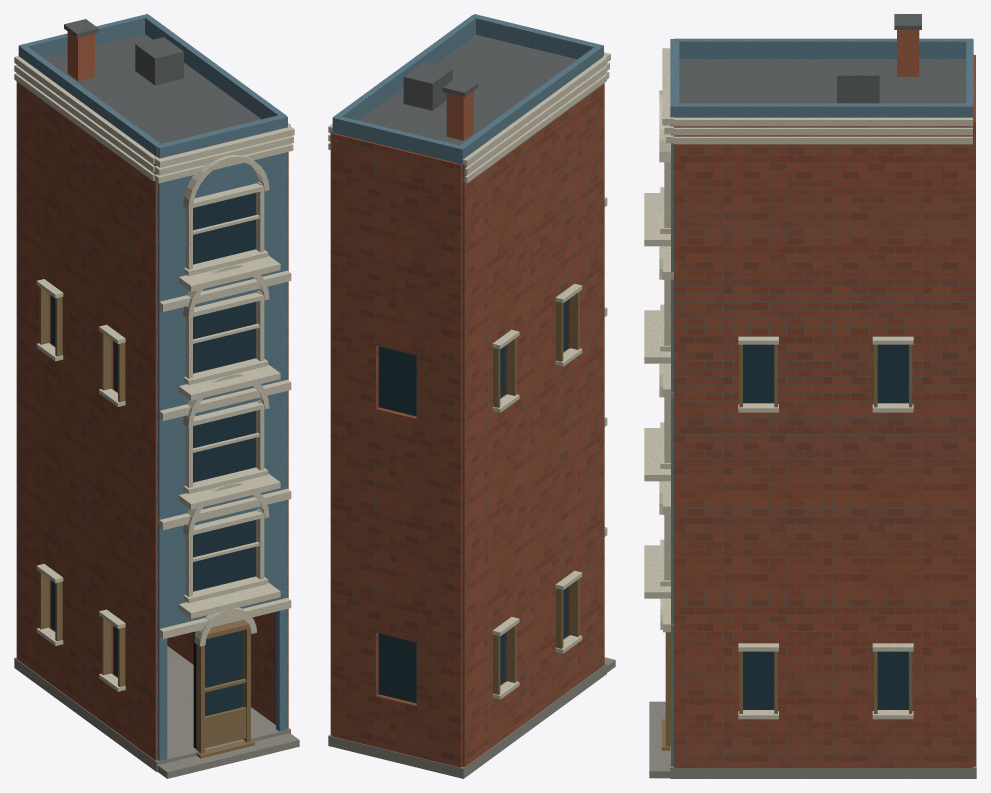
The model's file is OFFC1_lod2.glb.
3 views of the same model, side by side, from view 1: azimuth 30°, elevation 25°; view 2: azimuth 150°, elevation 25°; view 3: azimuth 270°, elevation 25° (orthographic). The views are drawn at different scales.
Parts seen in each view (by area): view 1: OFFC1_LOD2; view 2: OFFC1_LOD2; view 3: OFFC1_LOD2.
Boxes of the visible parts, bbox=[...] form: OFFC1_LOD2: bbox=[14, 14, 299, 778]; OFFC1_LOD2: bbox=[328, 14, 615, 778]; OFFC1_LOD2: bbox=[644, 14, 976, 778].
Bounding box in the file's own units: 3.71 × 15.65 × 6.67.
Materials: 9 (7 with a texture image).
